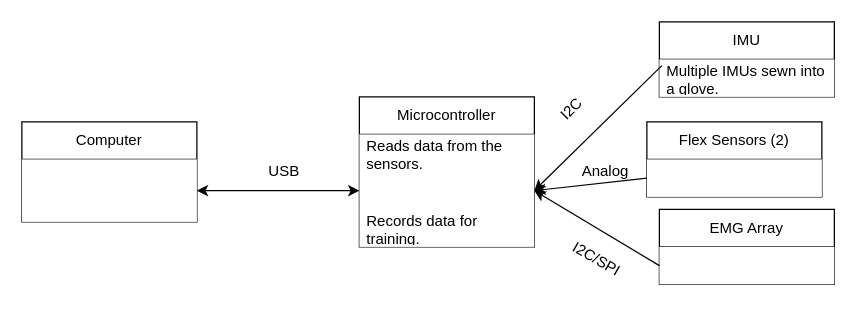
Some shapes in this 856 by 311 pixel diagram are drawn without their labels. The centre of each missing label's shape, as x and y in pixels:
Display Real-Time motion/positioning results.: pixel 108 190
Flex sensors attached to 2 fingers: pixel 733 177
Multiple EMGs sewn into a glove: pixel 746 265
Predicts hand position/movement.: pixel 446 190
